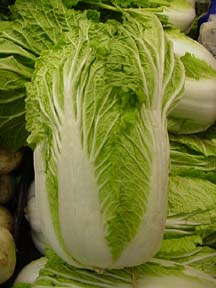cabbage: (22, 9, 187, 274)
